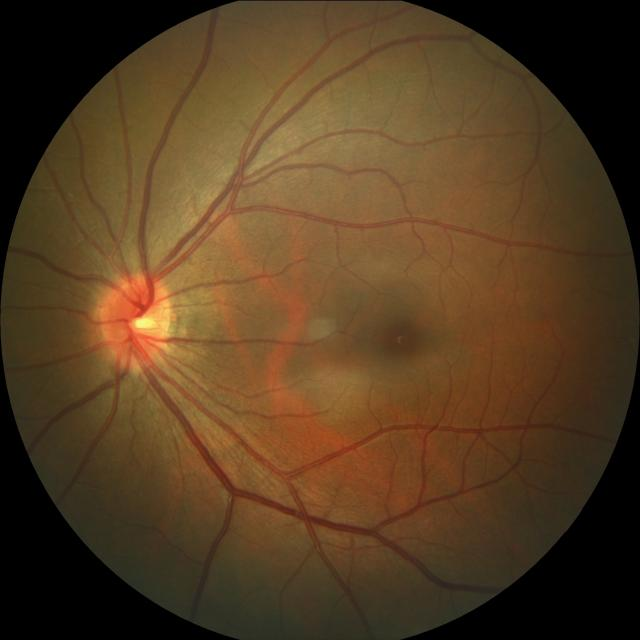OC: (124, 298, 160, 342)
OD: (96, 271, 174, 370)
